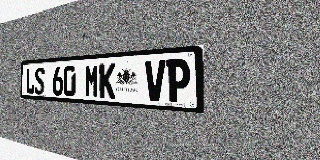0: (63, 65, 76, 96)
6: (52, 66, 63, 96)
K: (99, 63, 115, 99)
L: (26, 67, 35, 94)
M: (85, 64, 99, 98)
P: (166, 59, 190, 103)
S: (35, 67, 44, 94)
V: (145, 60, 166, 102)
